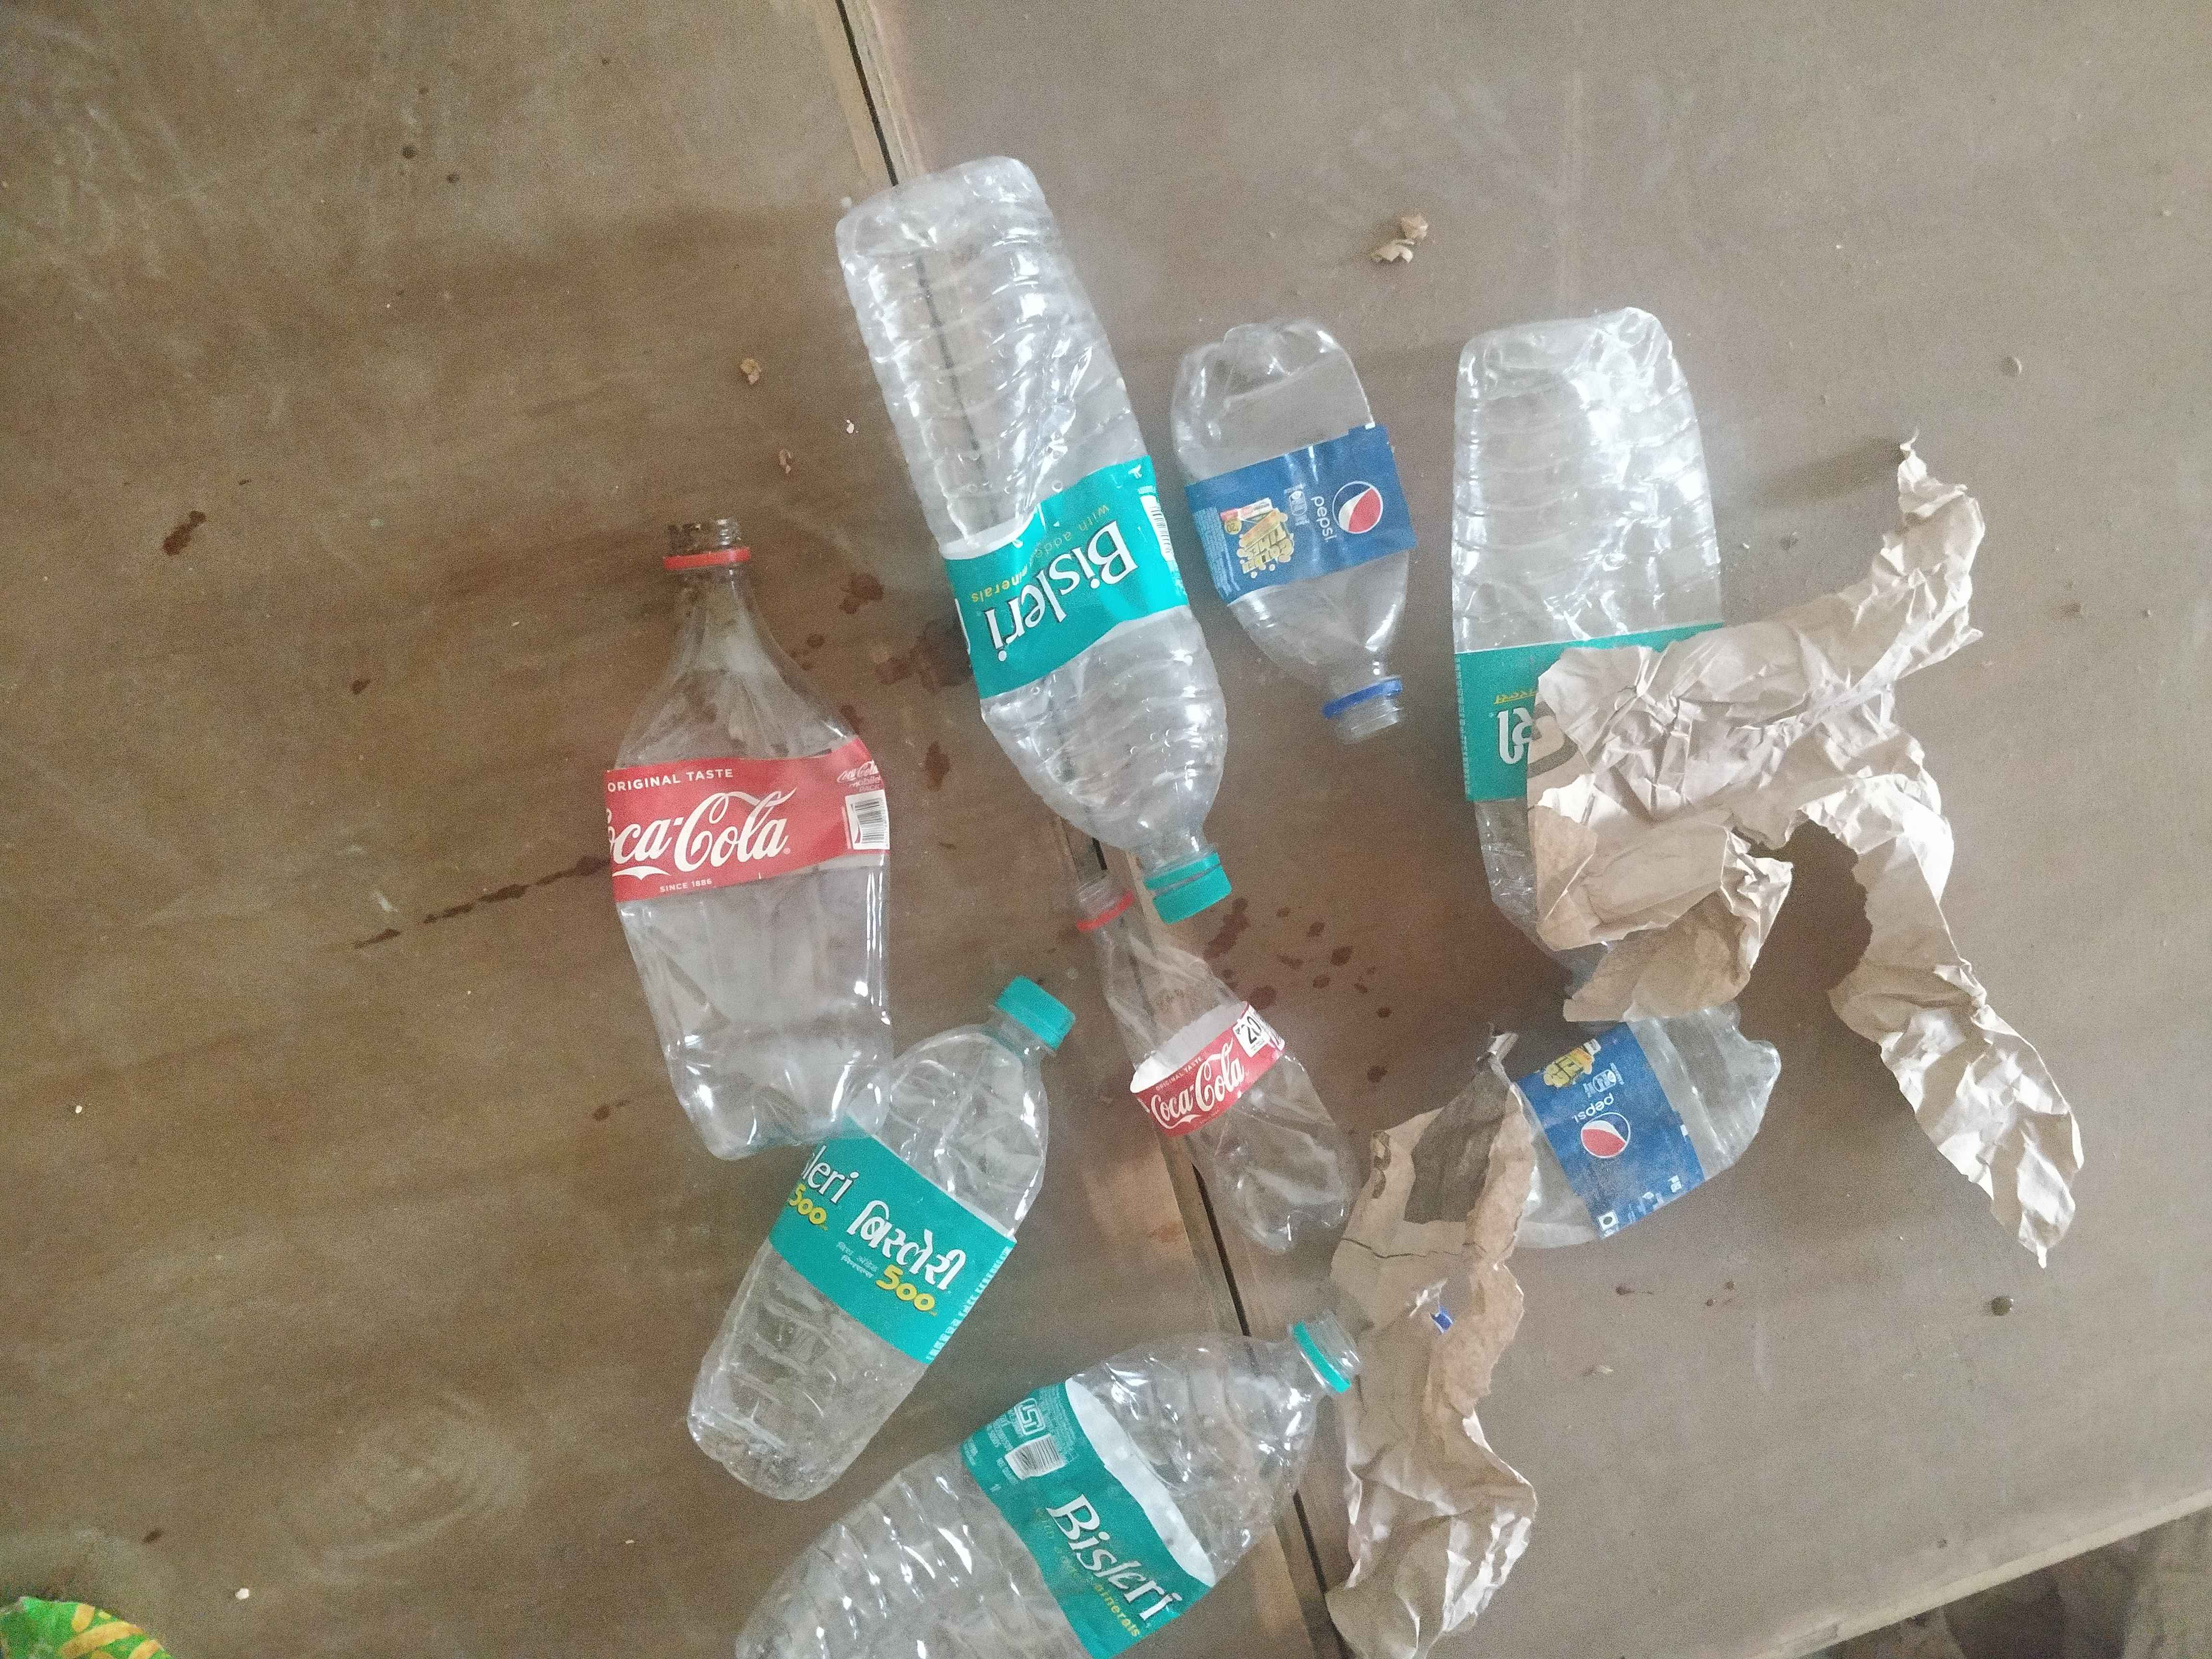Bisleri: (995, 1394, 1207, 1629), (960, 479, 1136, 692), (815, 1136, 972, 1338), (1456, 647, 1561, 798)
Coca-Cola: (603, 760, 822, 904), (1151, 1030, 1268, 1141)
pepsi: (1527, 1039, 1700, 1209), (1202, 455, 1416, 558)
